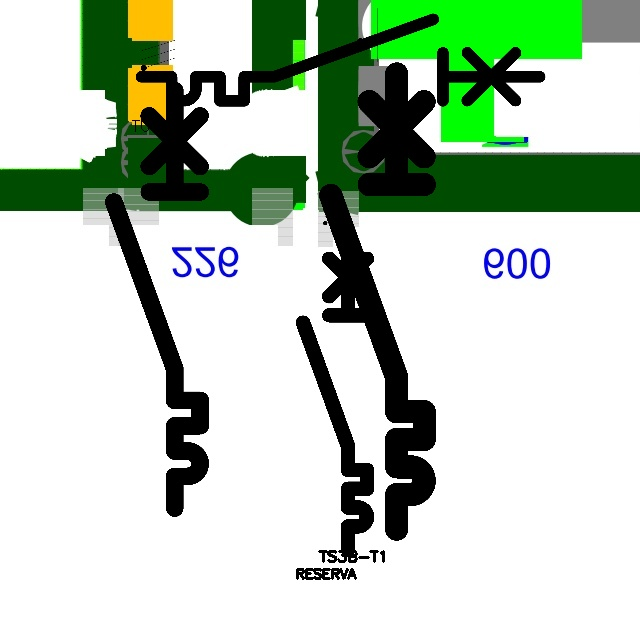interruptor_termomagnetico: (319, 62, 436, 540), (103, 79, 211, 519), (131, 9, 550, 111), (295, 231, 375, 557)
